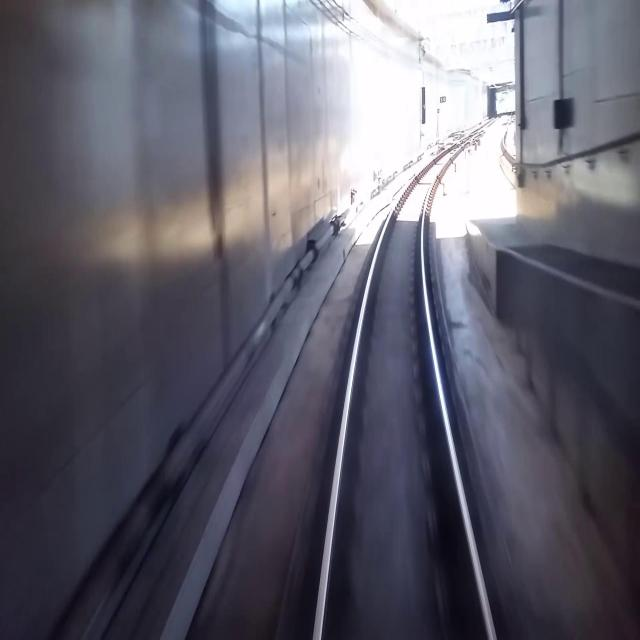rail-track: (320, 116, 499, 639), (503, 111, 515, 157)
